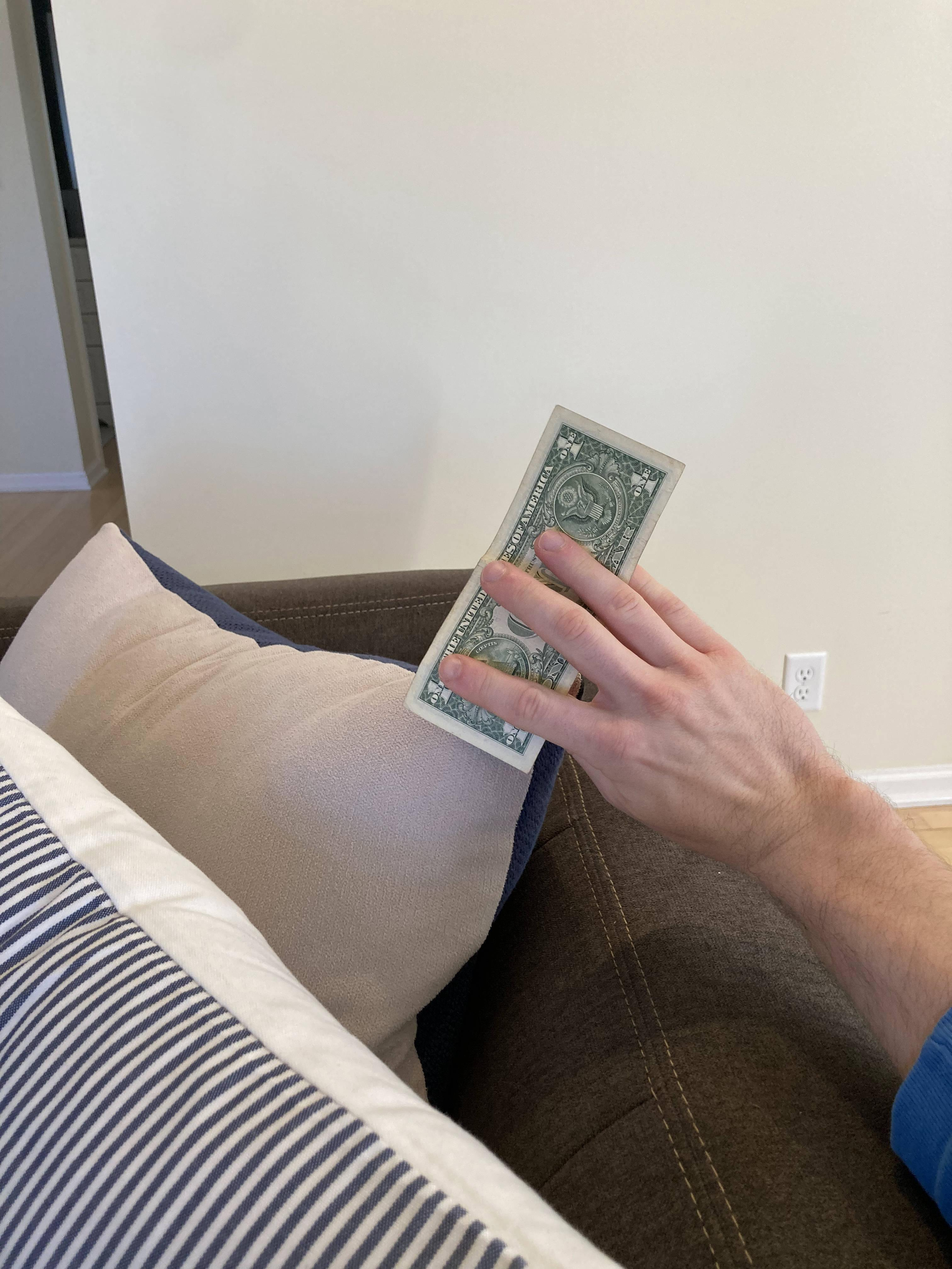one-back: (399, 405, 692, 780)
